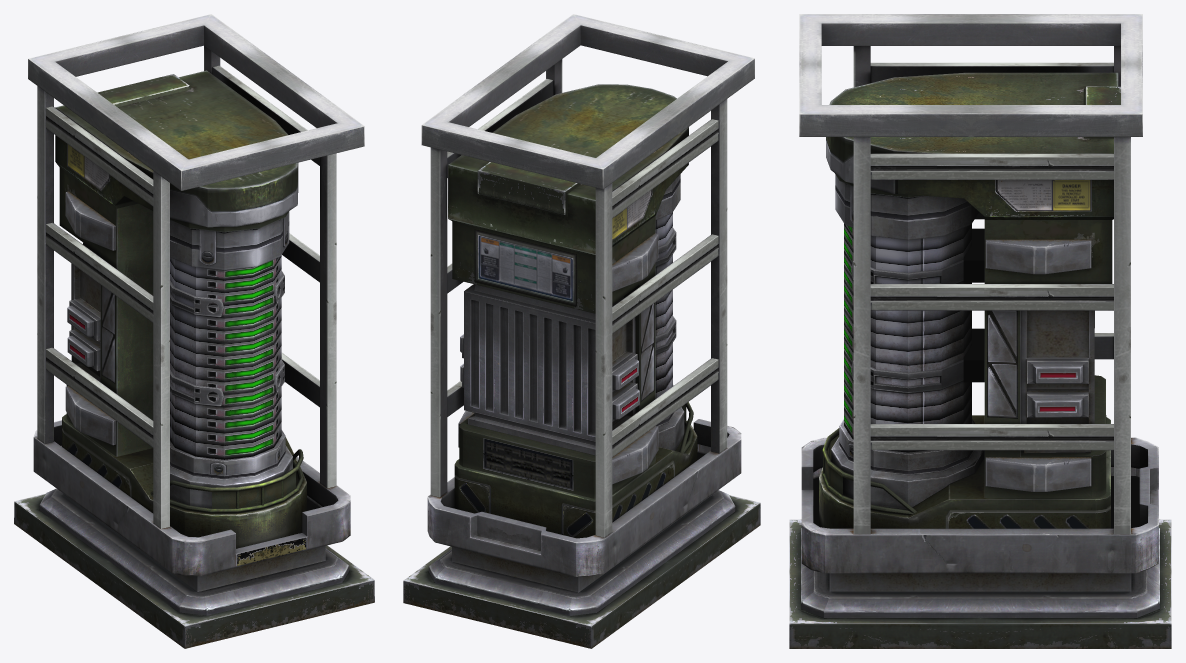
Rendered from Motor.FBX.
3 renders of one model, left to right at view 1: azimuth 30°, elevation 25°; view 2: azimuth 150°, elevation 25°; view 3: azimuth 270°, elevation 25°, orthographic. The views are drawn at different scales.
Visible parts, largest first — view 1: Motor; view 2: Motor; view 3: Motor.
Boxes of the visible parts, x1,y1,x2,y2 form: Motor: [14, 14, 374, 648]; Motor: [403, 14, 760, 648]; Motor: [789, 14, 1171, 648].
Bounding box in the file's own units: 28.34 × 67.61 × 44.09.
